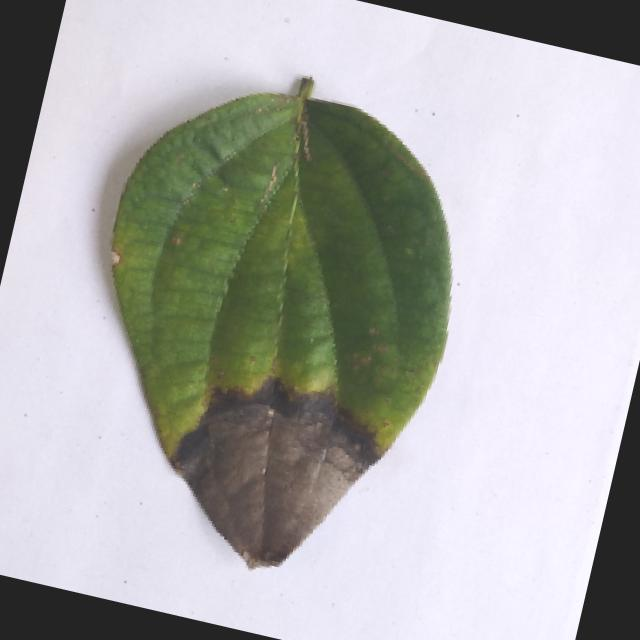footrot: (8, 30, 539, 611)
